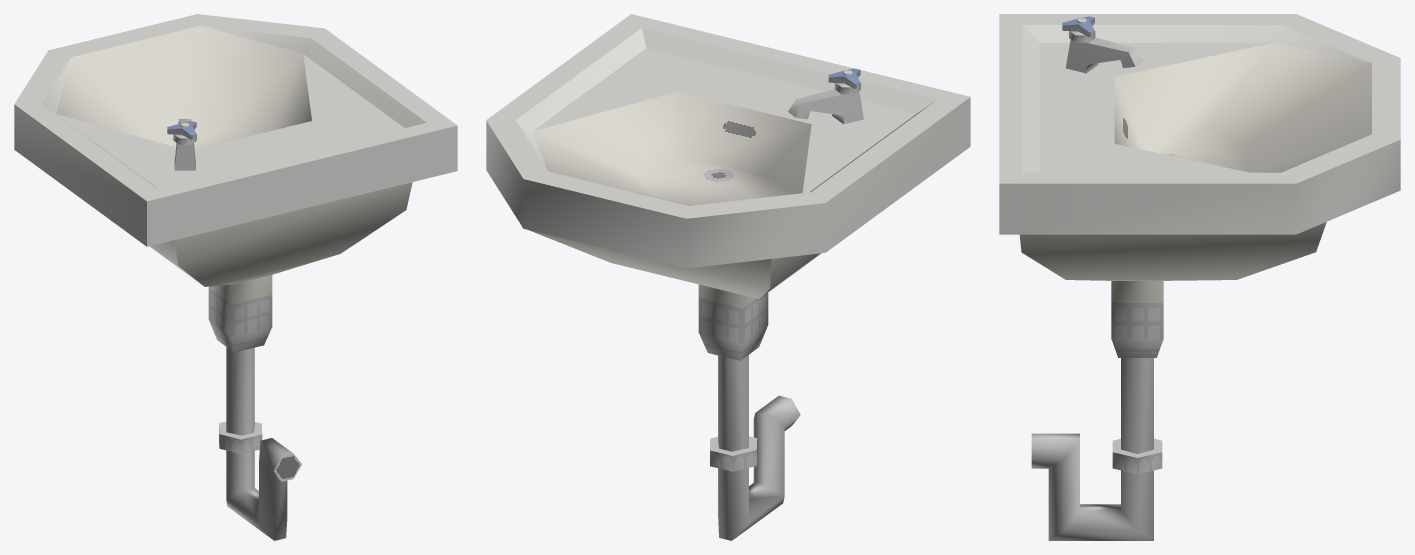
File: 0489_Washstand.glb
The picture shows the model from 3 angles, left to right: view 1: azimuth 30°, elevation 25°; view 2: azimuth 150°, elevation 25°; view 3: azimuth 270°, elevation 25°; orthographic projection. The views are drawn at different scales.
Visible parts, largest first — view 1: part_0; view 2: part_0; view 3: part_0.
Boxes of the visible parts, box(x1,y1,x2,y2) form: part_0: box(14, 14, 457, 540); part_0: box(486, 14, 970, 540); part_0: box(999, 14, 1400, 540).
Size of the model in its own units: 0.5 by 0.6513 by 0.5.
Materials: 1 (1 with a texture image).
